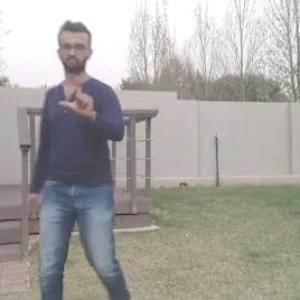land_hand: (56, 67, 100, 121)
